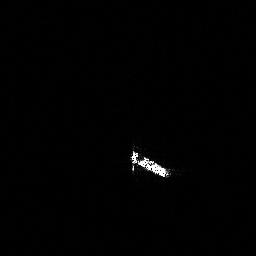ship: (125, 145, 174, 182)
